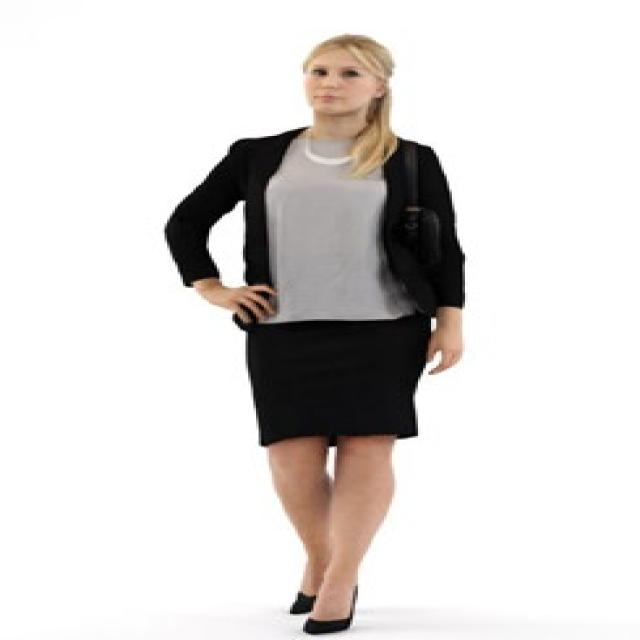standing: (163, 30, 489, 634)
